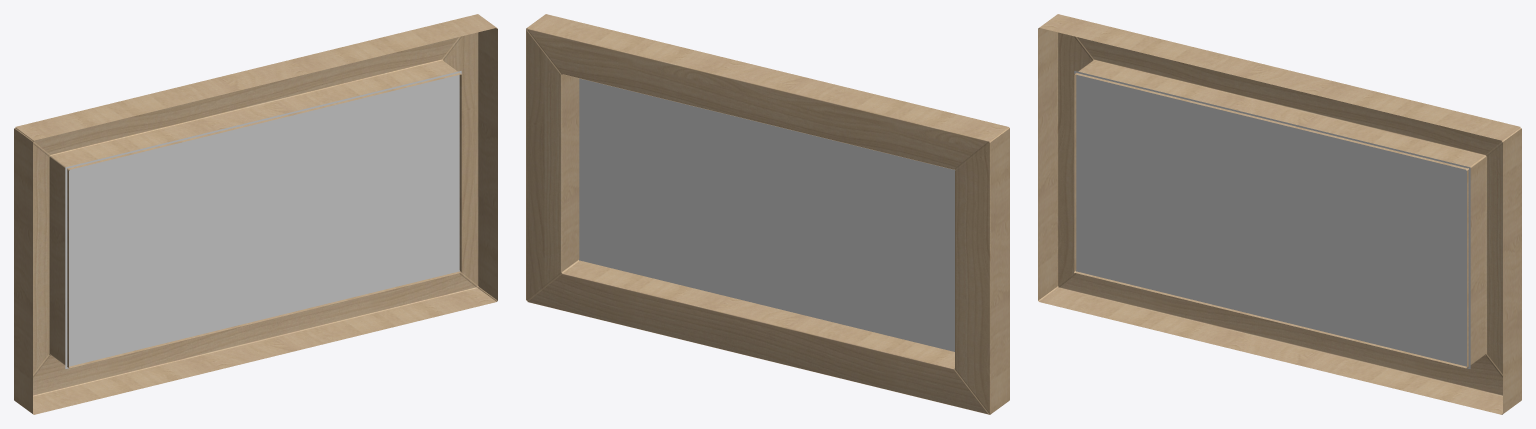
Rendered from picture_small.fbx.
3 renders of one model, left to right at view 1: azimuth 30°, elevation 25°; view 2: azimuth 150°, elevation 25°; view 3: azimuth 330°, elevation 25°, orthographic.
Parts seen in each view (by area): view 1: image, picture_small; view 2: picture_small, image; view 3: image, picture_small.
Part boxes in pixels (x1,y1,x2,y2): image: (65, 71, 461, 368); picture_small: (14, 14, 497, 414); picture_small: (526, 14, 1009, 414); image: (579, 78, 955, 351); image: (1074, 71, 1470, 368); picture_small: (1038, 14, 1521, 414).
Size of the model in its own units: 38.05 by 21.44 by 2.75.
